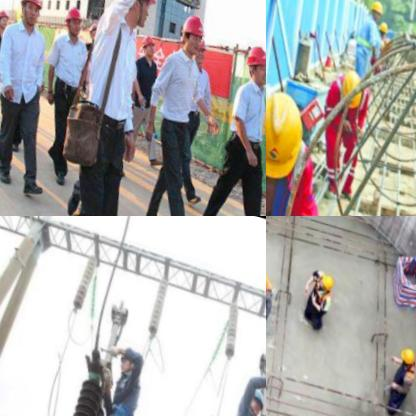helmet: (266, 78, 315, 190), (329, 63, 368, 112), (236, 33, 266, 91), (172, 4, 206, 53), (107, 0, 161, 28), (237, 377, 266, 416), (55, 0, 85, 36), (12, 0, 45, 28), (186, 28, 210, 65), (135, 29, 157, 57), (313, 264, 335, 292), (391, 338, 415, 363), (373, 12, 390, 37), (364, 0, 384, 19), (0, 5, 9, 29)
